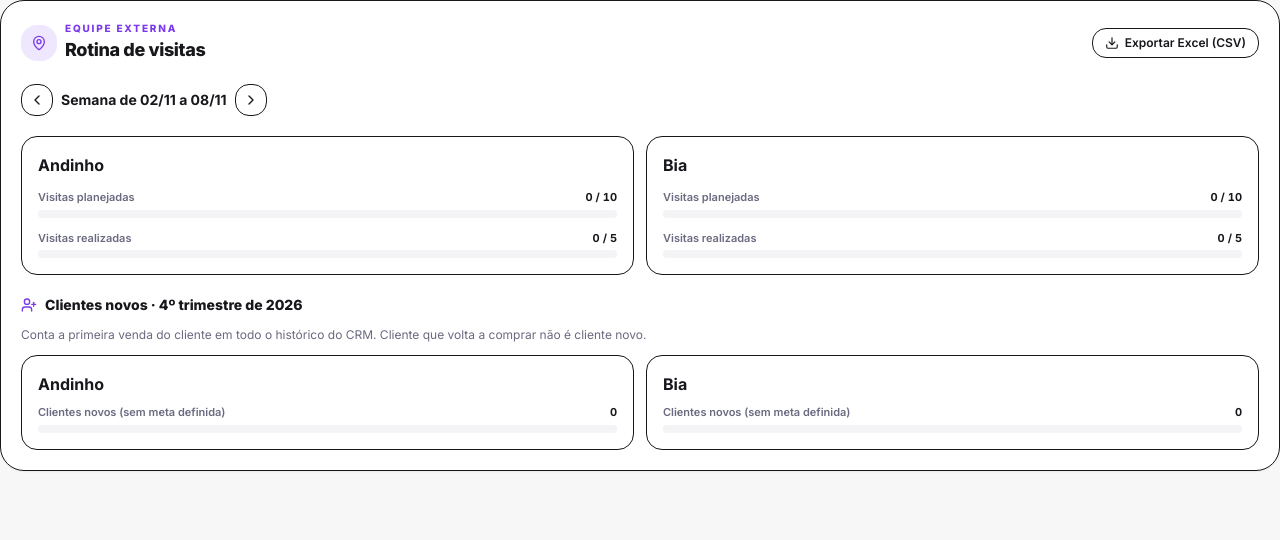
Test: VisitRoutineReport › navigates weeks and marks a finished week that missed the goal
The image size is (1280, 540).
Click the button named "Semana anterior" at (37,100), box [21,84,53,116]
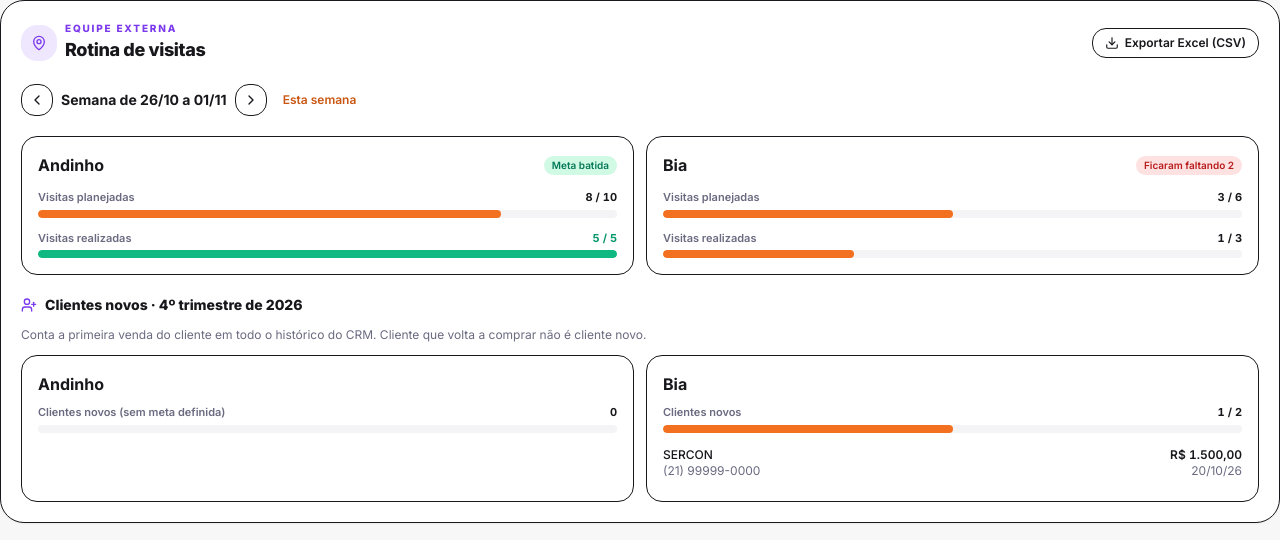
Expected: the text "Semana de 26/10 a 01/11" is shown, [61,90,227,110]
Expected: the text "Ficaram faltando 2" is shown, [1136,156,1242,174]
Click the button "Esta semana" at (319,100), box [275,92,364,108]
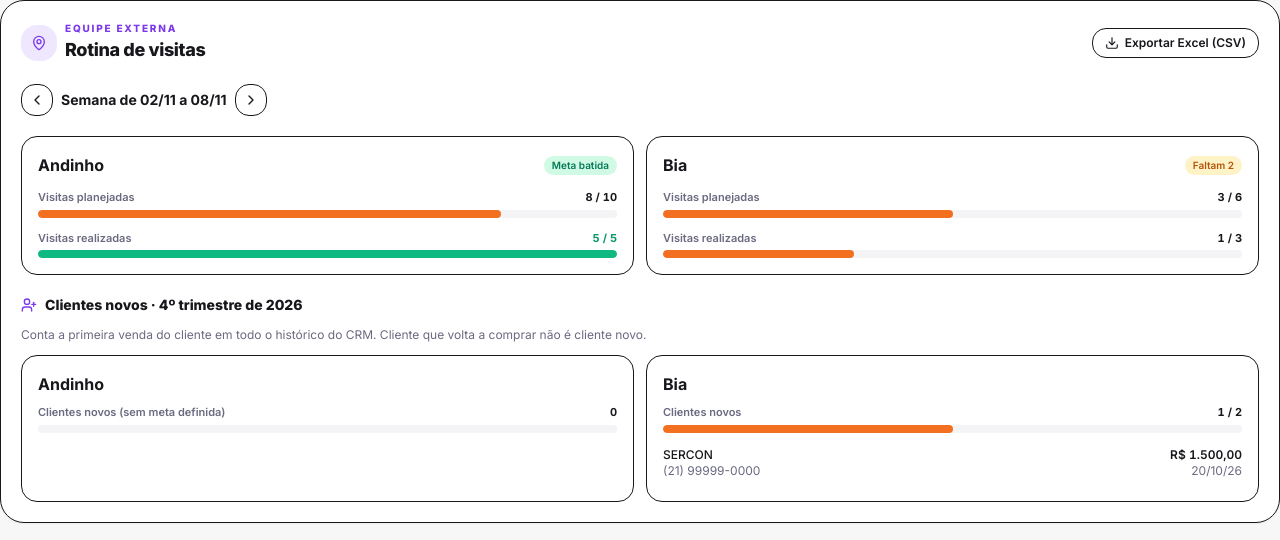
Expected: the text "Semana de 02/11 a 08/11" is shown, [61,90,227,110]
Expected: the text "Faltam 2" is shown, [1185,156,1242,174]
